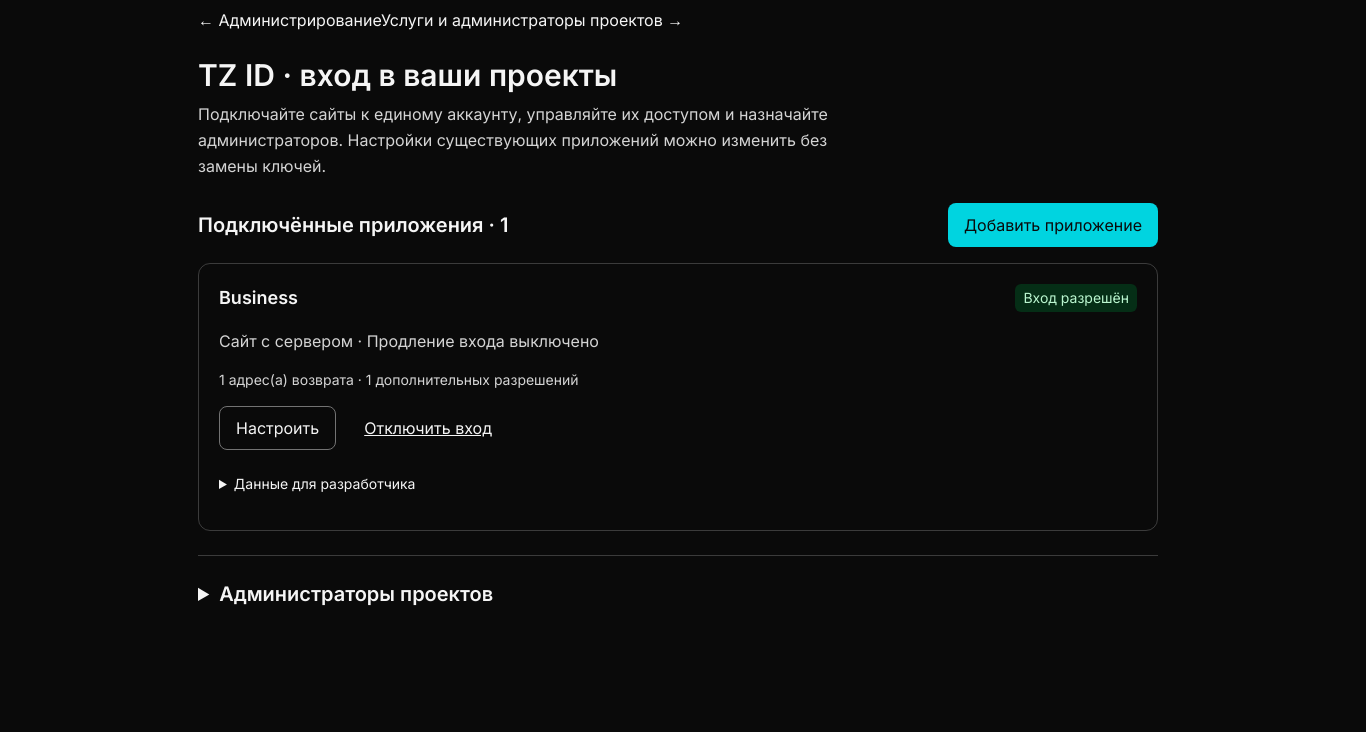
keeps failed edits open and shows the server conflict
Click the button "Настроить" at (278, 428), box [219,406,336,450]
(page scrolled)
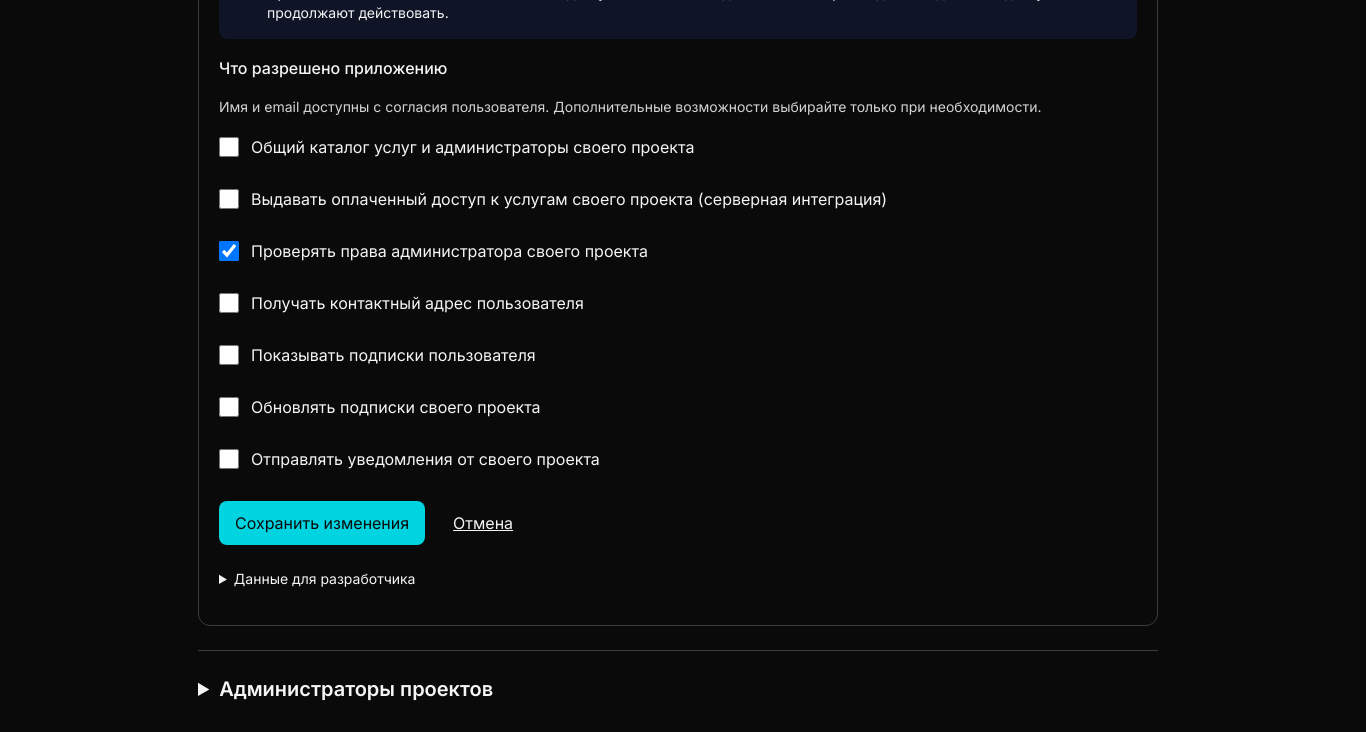
Click the button "Сохранить изменения" at (322, 523), box [219,501,425,545]
(page scrolled)
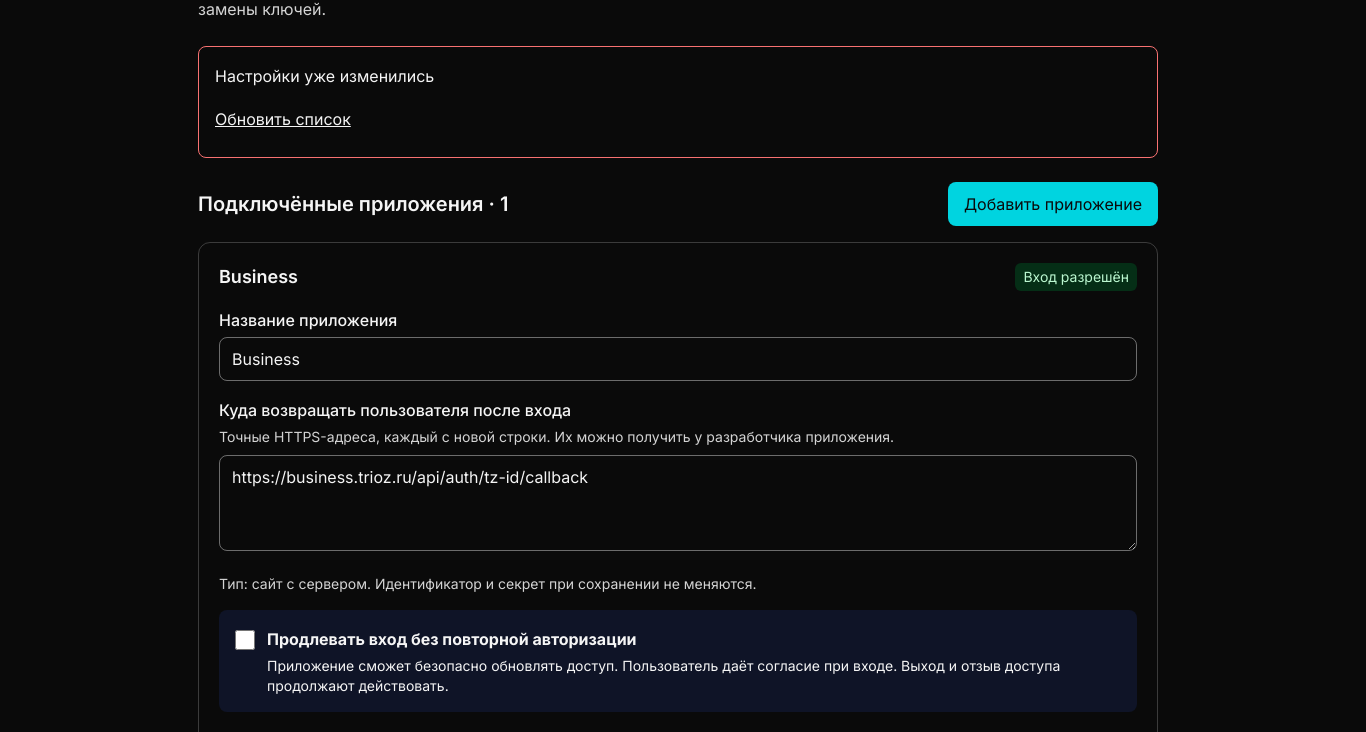
Check: the field labelled "Название приложения" is shown, box [219,337,1137,381]
Check: the message shows "Настройки уже изменились", box [215,66,434,86]
